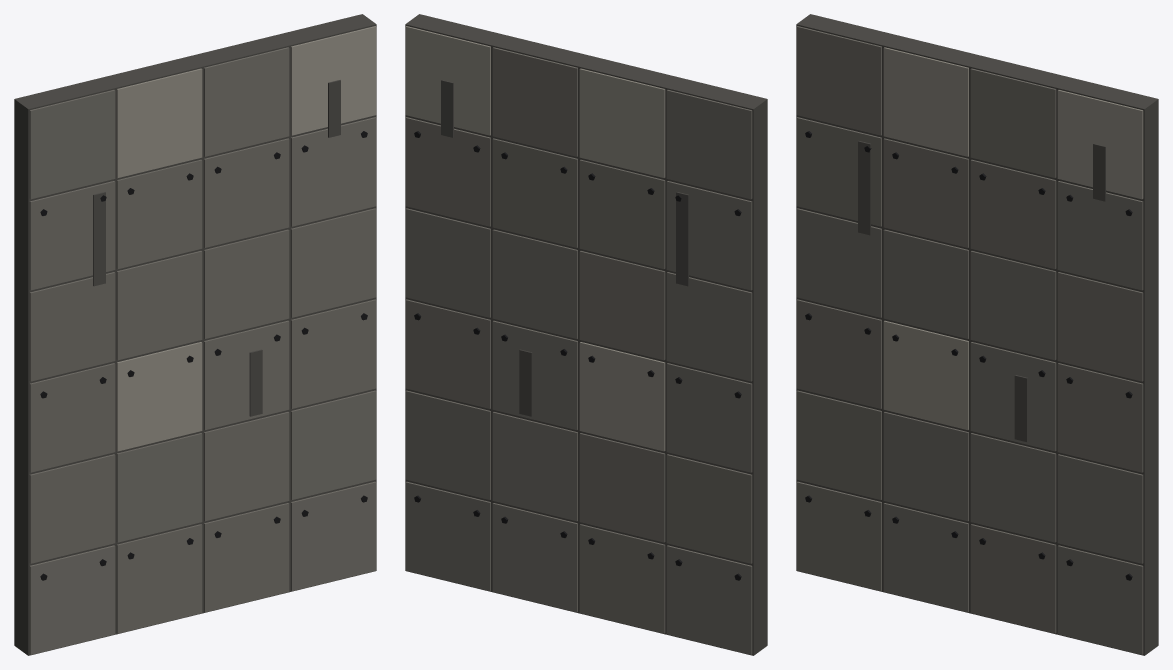
File: piece_wall_concrete.fbx
3 views of the same model, side by side, from view 1: azimuth 30°, elevation 25°; view 2: azimuth 150°, elevation 25°; view 3: azimuth 330°, elevation 25° (orthographic).
Parts seen in each view (by area): view 1: piece_wall_concrete; view 2: piece_wall_concrete; view 3: piece_wall_concrete.
Part boxes in pixels (<box>): piece_wall_concrete: <box>14,14,376,655</box>; piece_wall_concrete: <box>405,14,767,655</box>; piece_wall_concrete: <box>796,14,1158,655</box>.
Bounding box in the file's own units: 2 × 3 × 0.184.
